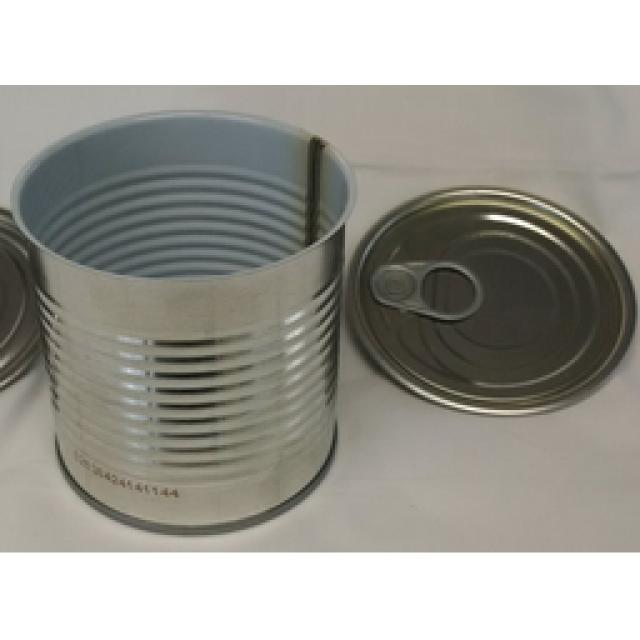alumunium: (0, 112, 350, 532), (350, 188, 632, 412)
